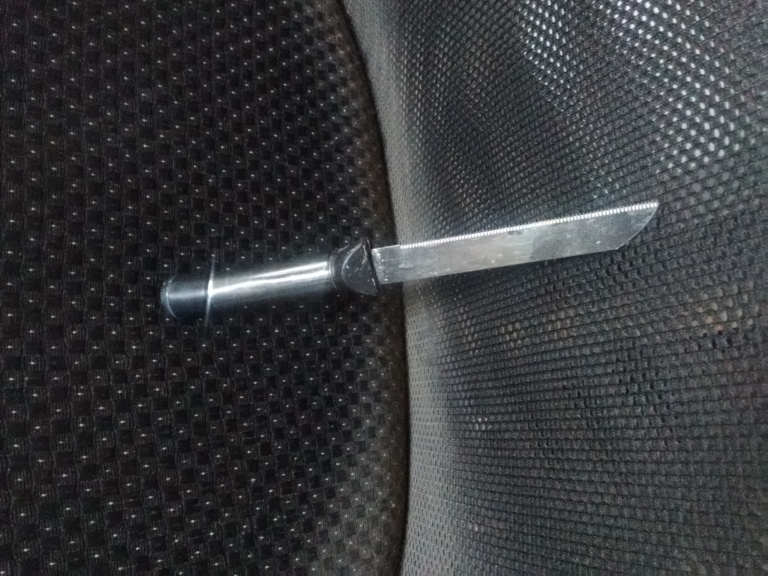knife: (160, 191, 661, 326)
